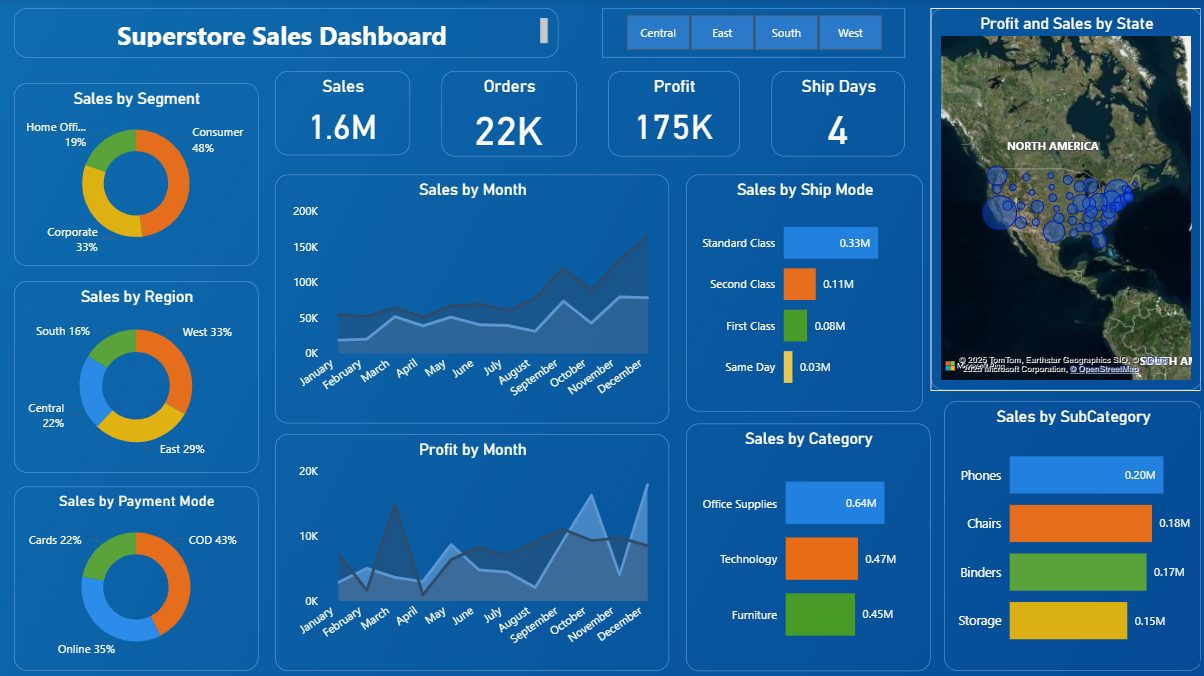

The page's visual inventory and layout, read from the dashboard file:
{"tool":"powerbi","page":{"name":"Page 1","canvas":[1280,720],"ordinal":0},"visuals":[{"type":"clusteredBarChart","title":"Sales by Category","fields":{"Category":["SuperStore_Sales_Dataset.Category"],"Y":["Sum(SuperStore_Sales_Dataset.Sales)"]},"box":[728.5,450.1,259.3,262.5],"z":0},{"type":"clusteredBarChart","title":"Sales by SubCategory","fields":{"Y":["Sum(SuperStore_Sales_Dataset.Sales)"],"Category":["SuperStore_Sales_Dataset.Sub-Category"]},"box":[1002.1,426.3,273.6,286.3],"z":1000},{"type":"clusteredBarChart","title":"Sales by Ship Mode","fields":{"Y":["Sum(SuperStore_Sales_Dataset.Sales)"],"Category":["SuperStore_Sales_Dataset.Ship Mode"]},"box":[728.5,186.1,251.3,251.3],"z":2000},{"type":"areaChart","title":"Sales by Month","fields":{"Category":["SuperStore_Sales_Dataset.Order Date.Variation.Date Hierarchy.Month","SuperStore_Sales_Dataset.Order Date.Variation.Date Hierarchy.Day"],"Y":["Sum(SuperStore_Sales_Dataset.Sales)"],"Series":["SuperStore_Sales_Dataset.Order Date.Variation.Date Hierarchy.Year"]},"box":[292.7,186.1,418.3,264],"z":3000},{"type":"areaChart","title":" Profit by Month","fields":{"Category":["SuperStore_Sales_Dataset.Order Date.Variation.Date Hierarchy.Month","SuperStore_Sales_Dataset.Order Date.Variation.Date Hierarchy.Day"],"Y":["Sum(SuperStore_Sales_Dataset.Profit)"],"Series":["SuperStore_Sales_Dataset.Order Date.Variation.Date Hierarchy.Year"]},"box":[292.7,461.3,418.3,251.3],"z":4000},{"type":"map","title":"Profit and Sales by State","fields":{"Category":["SuperStore_Sales_Dataset.State"],"Size":["Sum(SuperStore_Sales_Dataset.Sales)"]},"box":[987.8,9.5,287.9,405.6],"z":5000},{"type":"donutChart","title":" Sales by Segment","fields":{"Category":["SuperStore_Sales_Dataset.Segment"],"Y":["Sum(SuperStore_Sales_Dataset.Sales)"]},"box":[15.9,89.1,259.3,194.1],"z":6000},{"type":"donutChart","title":"Sales by Region ","fields":{"Category":["SuperStore_Sales_Dataset.Region"],"Y":["Sum(SuperStore_Sales_Dataset.Sales)"]},"box":[15.9,298.2,259.3,203.6],"z":7000},{"type":"donutChart","title":"Sales by Payment Mode","fields":{"Y":["Sum(SuperStore_Sales_Dataset.Sales)"],"Category":["SuperStore_Sales_Dataset.Payment Mode"]},"box":[15.9,516.9,259.3,195.6],"z":8000},{"type":"slicer","fields":{"Values":["SuperStore_Sales_Dataset.Region"]},"box":[639.4,9.5,321.3,52.5],"z":9000},{"type":"textbox","box":[15.9,9.5,577.4,52.5],"z":10000},{"type":"cardVisual","title":"Sales","fields":{"Data":["Sum(SuperStore_Sales_Dataset.Sales)"]},"box":[292.7,76.3,143.2,89.1],"z":11000},{"type":"cardVisual","title":"Orders","fields":{"Data":["Sum(SuperStore_Sales_Dataset.Quantity)"]},"box":[469.2,76.3,143.2,90.7],"z":12000},{"type":"cardVisual","title":"Profit","fields":{"Data":["Sum(SuperStore_Sales_Dataset.Profit)"]},"box":[645.8,76.3,140,90.7],"z":13000},{"type":"cardVisual","title":"Ship Days","fields":{"Data":["Avg(SuperStore_Sales_Dataset.Avg_delivery)"]},"box":[819.2,76.3,141.6,90.7],"z":14000}]}

Visuals, with their boxes in screenshot pixels (x1, y1, x2, y2), scaled from the page's 1280x720 canvas onto the 1204x676 screenshot:
"Sales by Category" clusteredBarChart: bbox=[685, 423, 929, 669]
"Sales by SubCategory" clusteredBarChart: bbox=[943, 400, 1200, 669]
"Sales by Ship Mode" clusteredBarChart: bbox=[685, 175, 922, 411]
"Sales by Month" areaChart: bbox=[275, 175, 669, 423]
" Profit by Month" areaChart: bbox=[275, 433, 669, 669]
"Profit and Sales by State" map: bbox=[929, 9, 1200, 390]
" Sales by Segment" donutChart: bbox=[15, 84, 259, 266]
"Sales by Region " donutChart: bbox=[15, 280, 259, 471]
"Sales by Payment Mode" donutChart: bbox=[15, 485, 259, 669]
slicer - SuperStore_Sales_Dataset.Region: bbox=[601, 9, 904, 58]
textbox: bbox=[15, 9, 558, 58]
"Sales" cardVisual: bbox=[275, 72, 410, 155]
"Orders" cardVisual: bbox=[441, 72, 576, 157]
"Profit" cardVisual: bbox=[607, 72, 739, 157]
"Ship Days" cardVisual: bbox=[771, 72, 904, 157]
